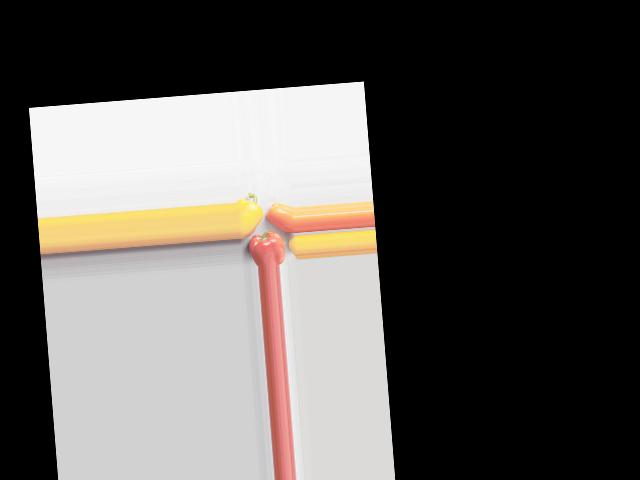bell_pepper: (245, 230, 285, 266)
